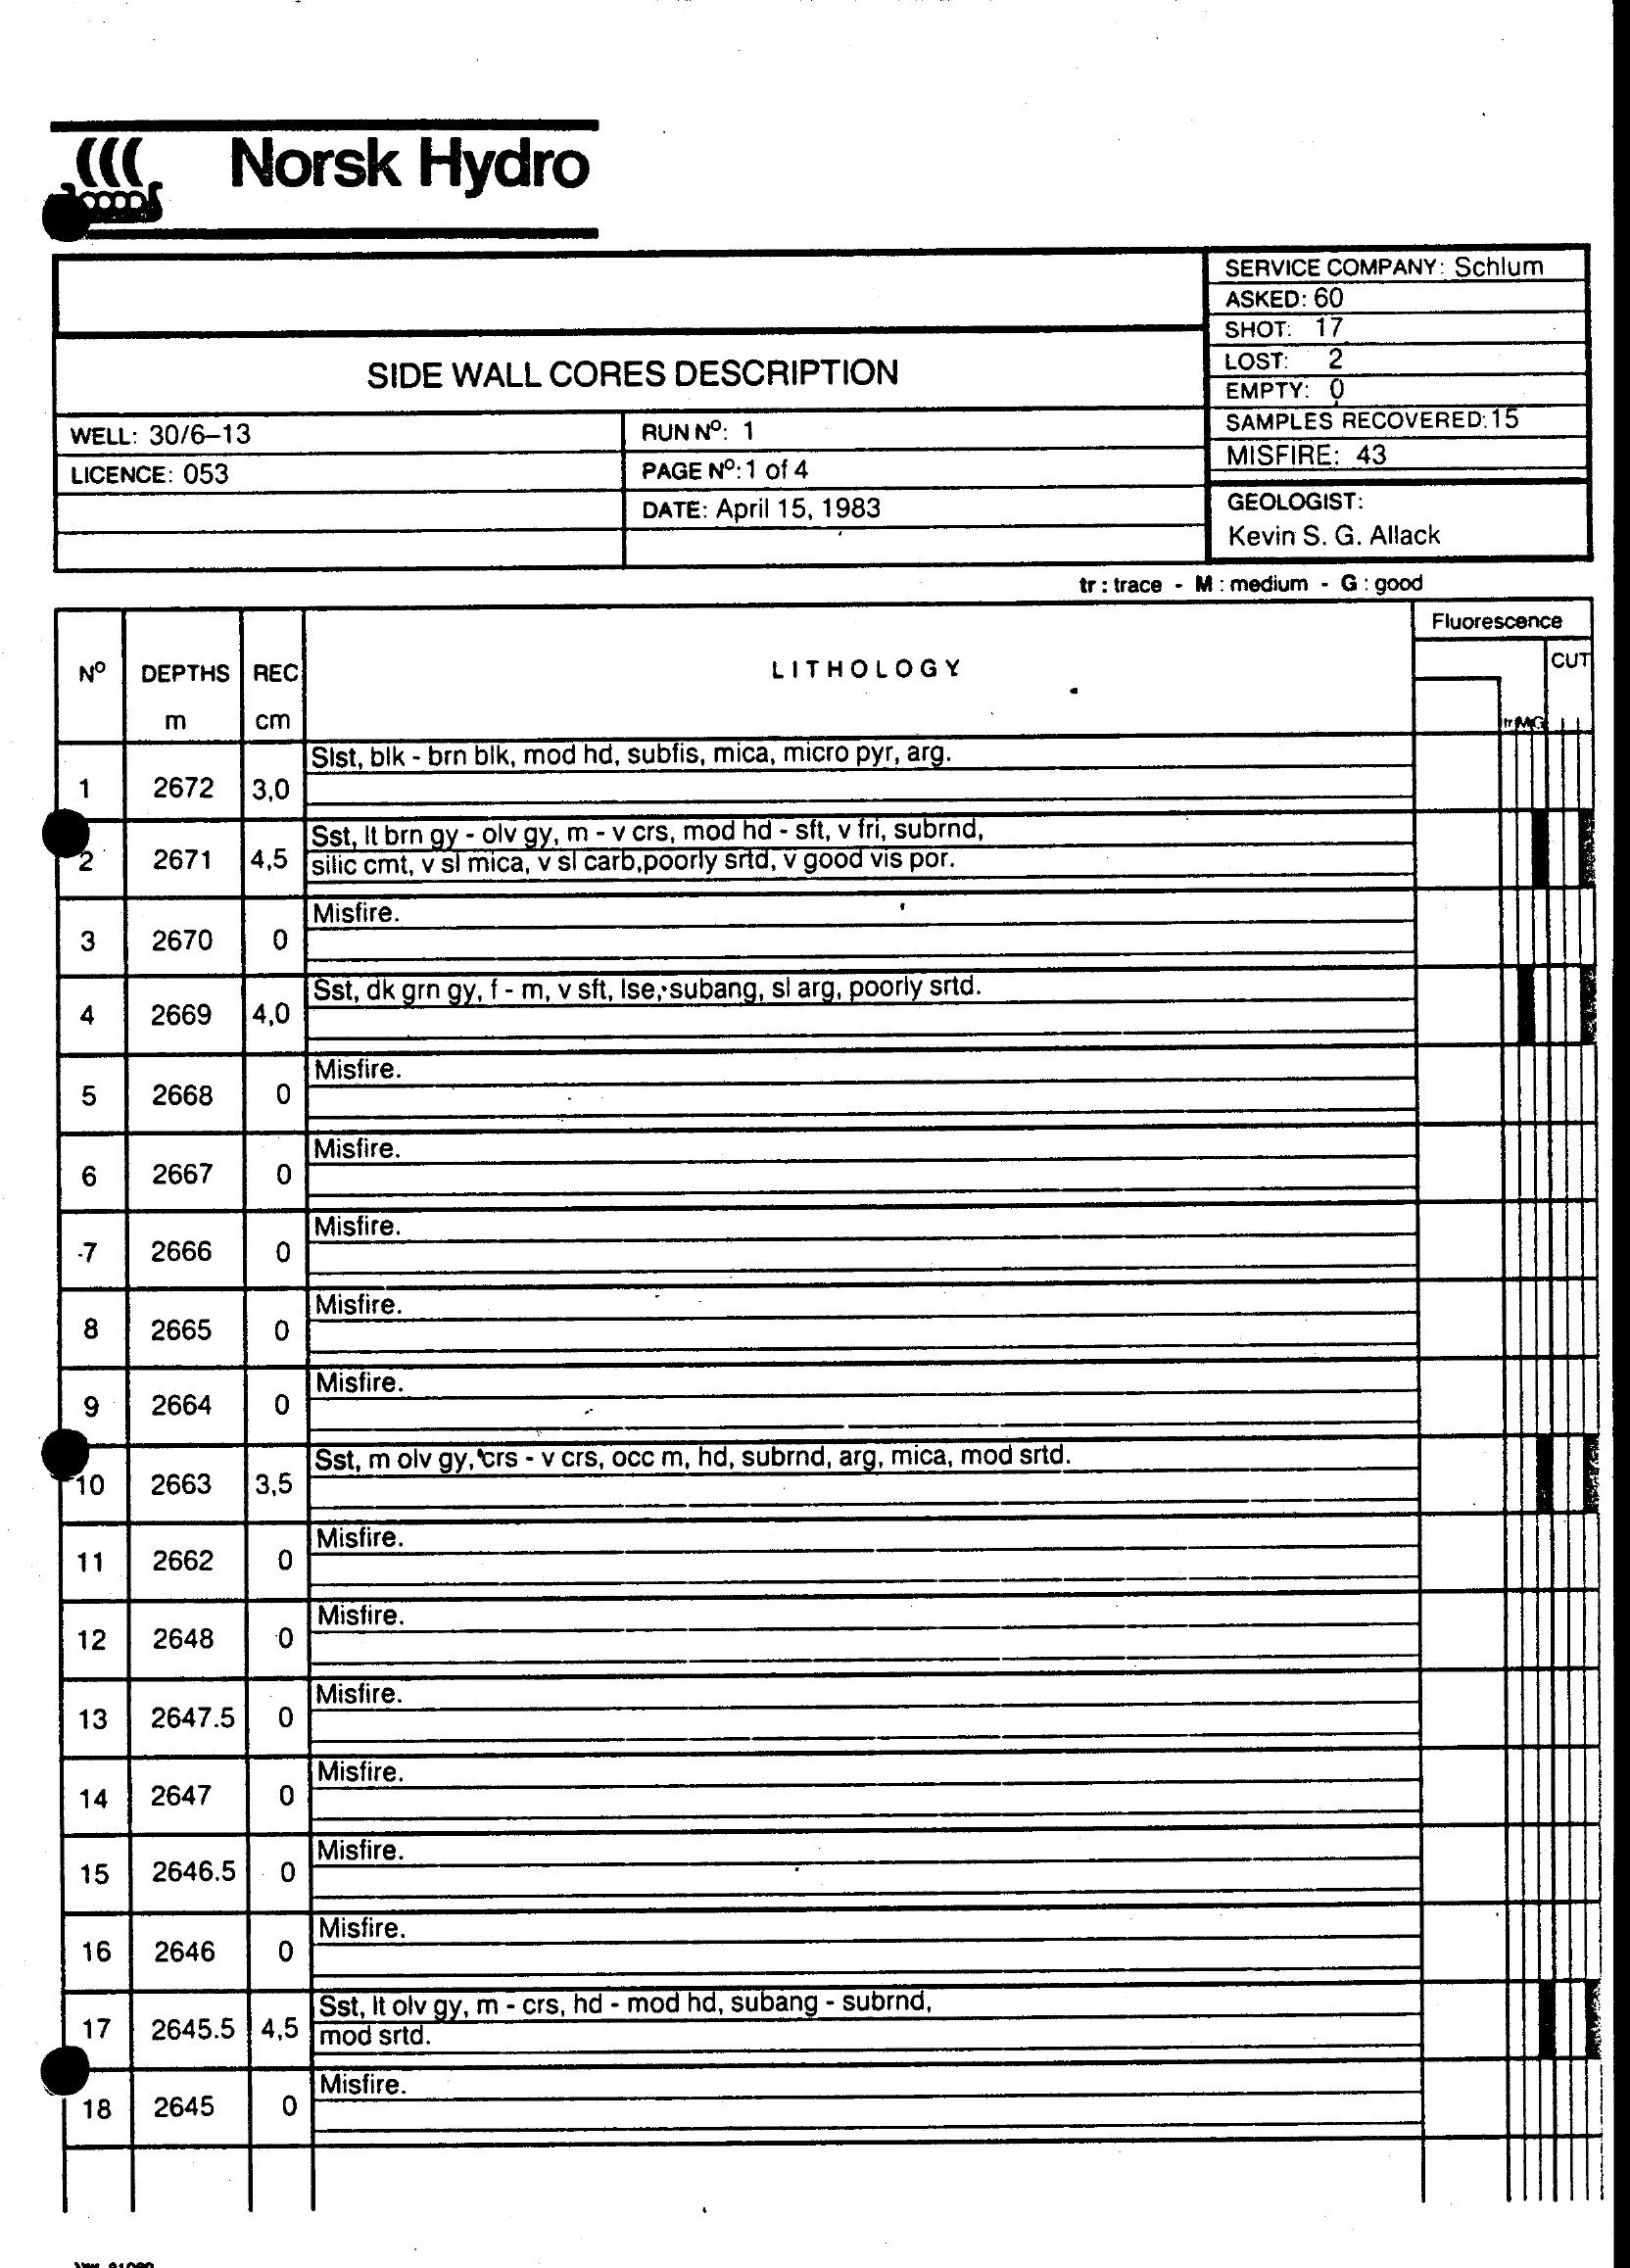table: (39, 595, 1607, 2224)
undefined: (30, 85, 600, 247)
